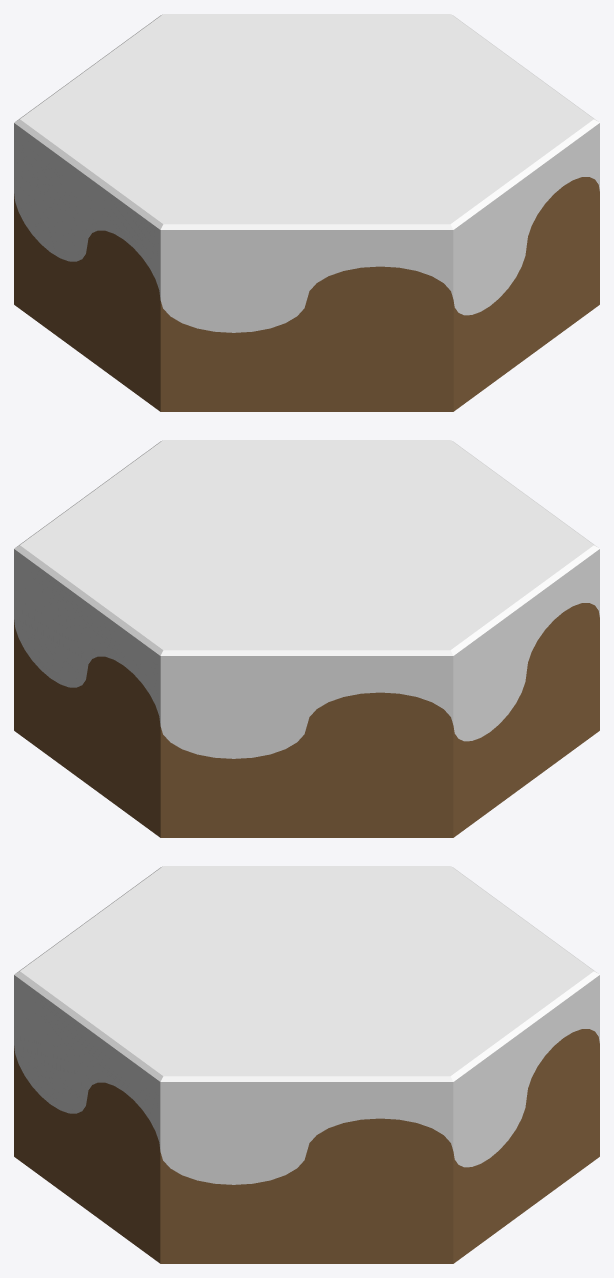
The model's file is RPG_Tiles_Hex_Dirt_Covered_Raised_03.FBX.
3 renders of one model, top to bottom at view 1: azimuth 30°, elevation 25°; view 2: azimuth 150°, elevation 25°; view 3: azimuth 270°, elevation 25°, orthographic.
Parts seen in each view (by area): view 1: RPG_Tiles_Hex_Dirt_Covered_Raised_03; view 2: RPG_Tiles_Hex_Dirt_Covered_Raised_03; view 3: RPG_Tiles_Hex_Dirt_Covered_Raised_03.
Boxes of the visible parts, x1,y1,x2,y2 form: RPG_Tiles_Hex_Dirt_Covered_Raised_03: [14, 14, 599, 411]; RPG_Tiles_Hex_Dirt_Covered_Raised_03: [14, 440, 599, 837]; RPG_Tiles_Hex_Dirt_Covered_Raised_03: [14, 866, 599, 1263].
Size of the model in its own units: 3000 by 1210 by 3464.
